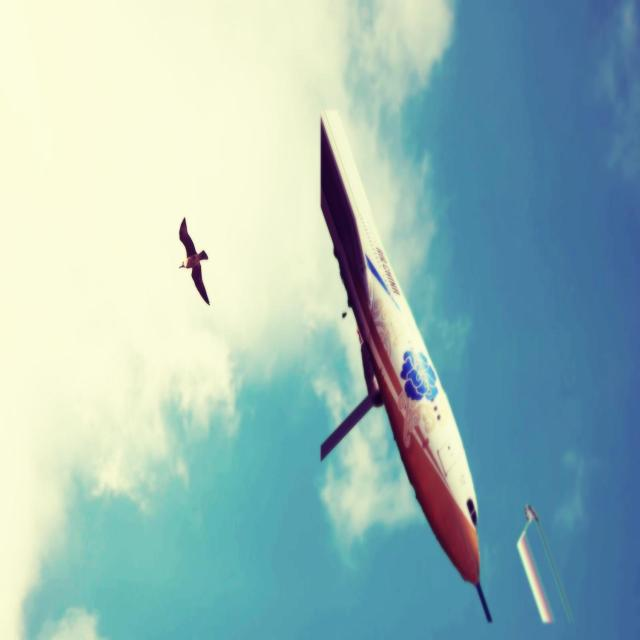airplane: (318, 107, 493, 622)
